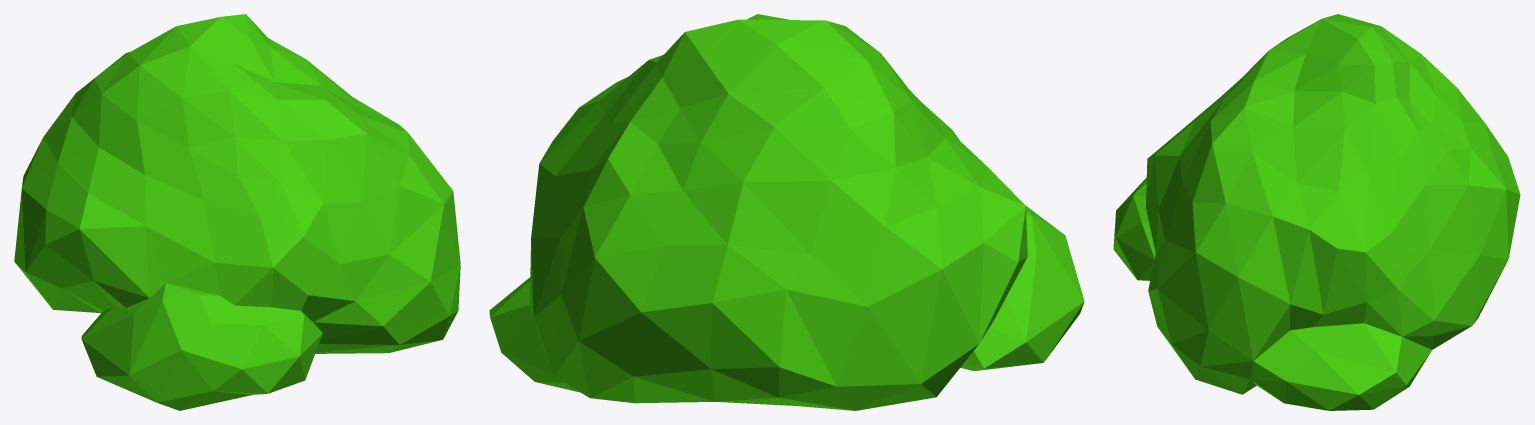
Rendered from lp_tree2_Icosphere_004.obj.
3 views of the same model, side by side, from view 1: azimuth 30°, elevation 25°; view 2: azimuth 150°, elevation 25°; view 3: azimuth 270°, elevation 25° (orthographic). The views are drawn at different scales.
Parts seen in each view (by area): view 1: lp_tree2_Icosphere_004; view 2: lp_tree2_Icosphere_004; view 3: lp_tree2_Icosphere_004.
Boxes of the visible parts, <box> form: lp_tree2_Icosphere_004: <box>14,14,460,410</box>; lp_tree2_Icosphere_004: <box>489,14,1084,410</box>; lp_tree2_Icosphere_004: <box>1113,14,1520,410</box>.
Bounding box in the file's own units: 11.69 × 8.79 × 10.98.
